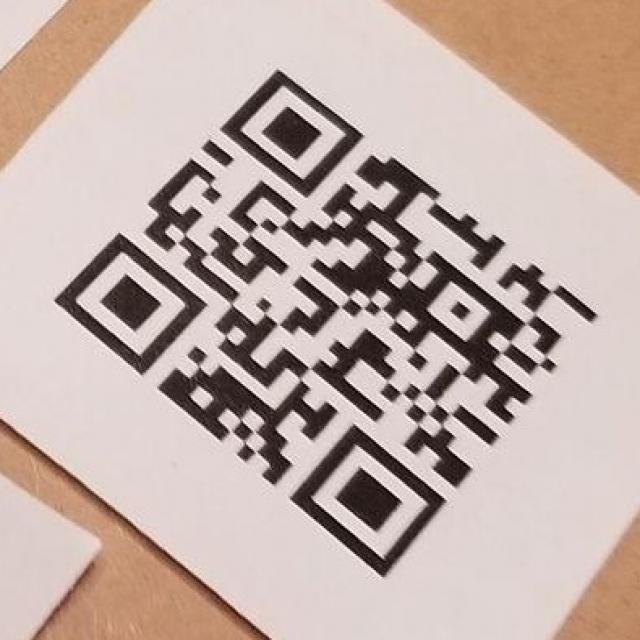QR_CODE: (52, 65, 599, 578)
